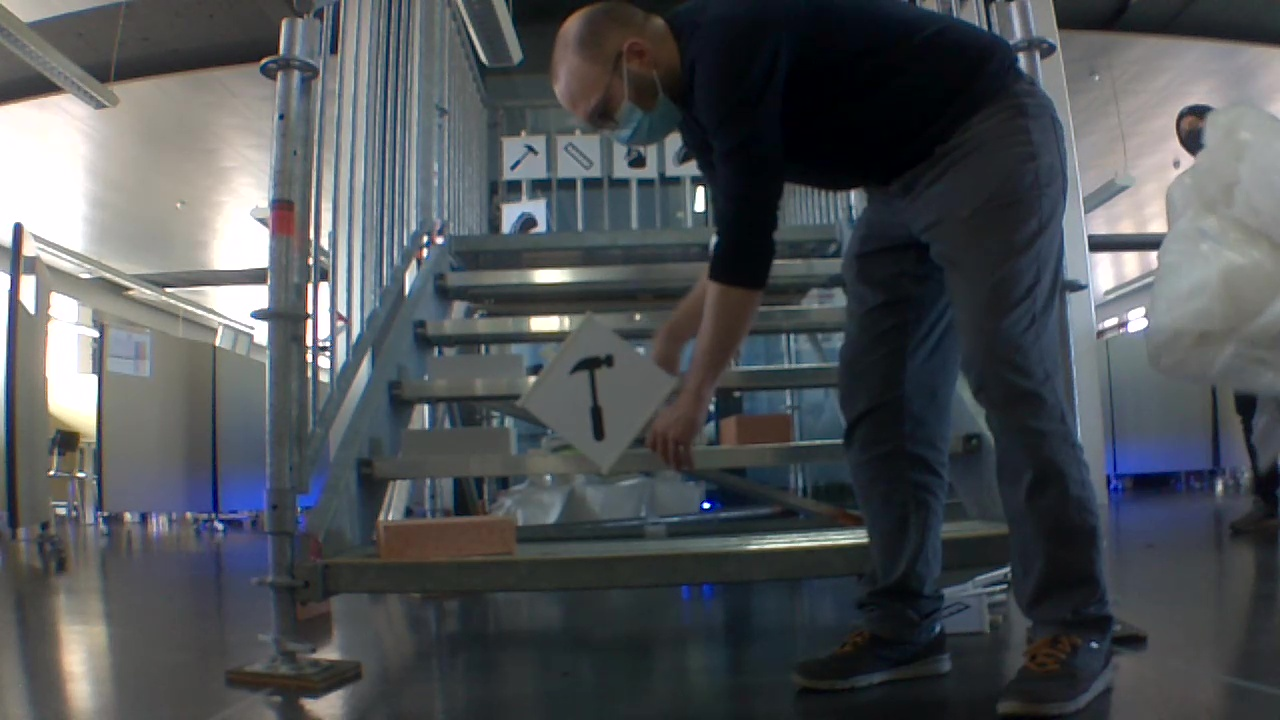brick: (379, 517, 511, 562), (401, 428, 515, 458), (428, 355, 524, 380), (719, 416, 792, 442)
bucket: (619, 143, 650, 172)
hammer: (560, 346, 620, 444), (502, 139, 543, 174)
ruler: (559, 140, 598, 176)
taco: (506, 208, 538, 233)
